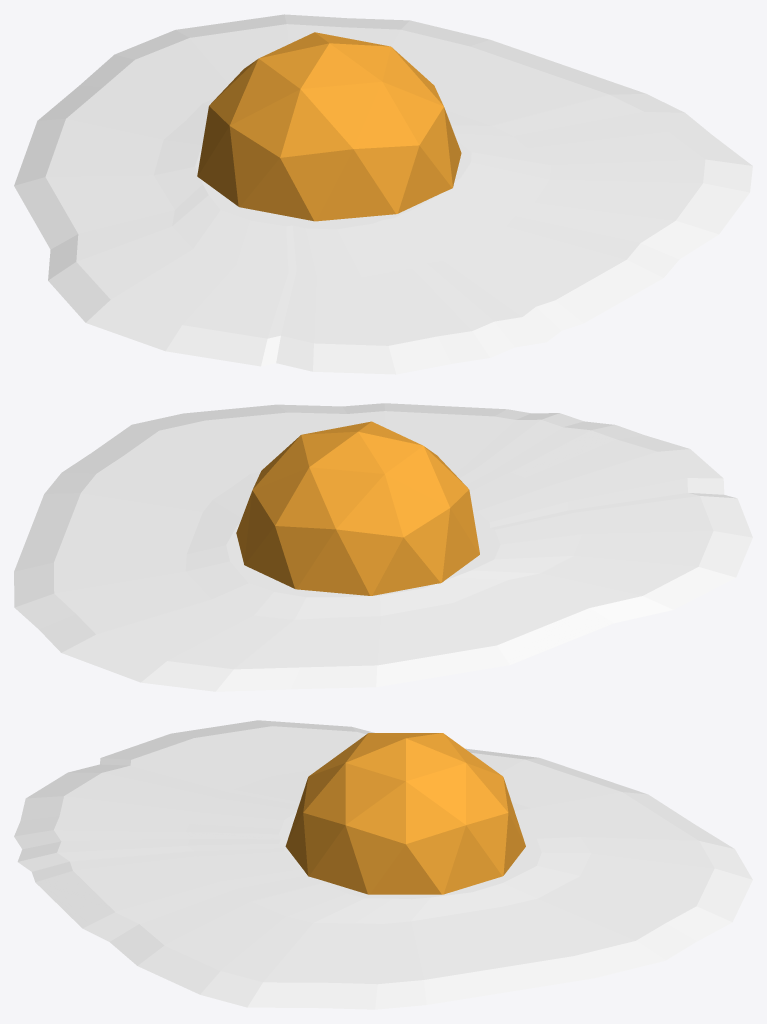
Rendered from sunnysideupegg.glb.
3 views of the same model, one above another, from view 1: azimuth 30°, elevation 25°; view 2: azimuth 150°, elevation 25°; view 3: azimuth 270°, elevation 25° (orthographic). The views are drawn at different scales.
Visible parts, largest first — view 1: Plane; view 2: Plane; view 3: Plane.
Boxes of the visible parts, box(x1,y1,x2,y2) form: Plane: box(14, 14, 752, 374); Plane: box(14, 403, 752, 691); Plane: box(14, 720, 752, 1009).
Size of the model in its own units: 0.3201 by 0.0642 by 0.3457.
Materials: 1 (1 with a texture image).
